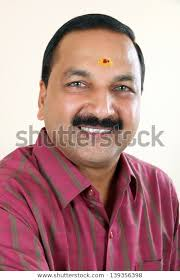Indian_Male: (51, 45, 140, 158)
